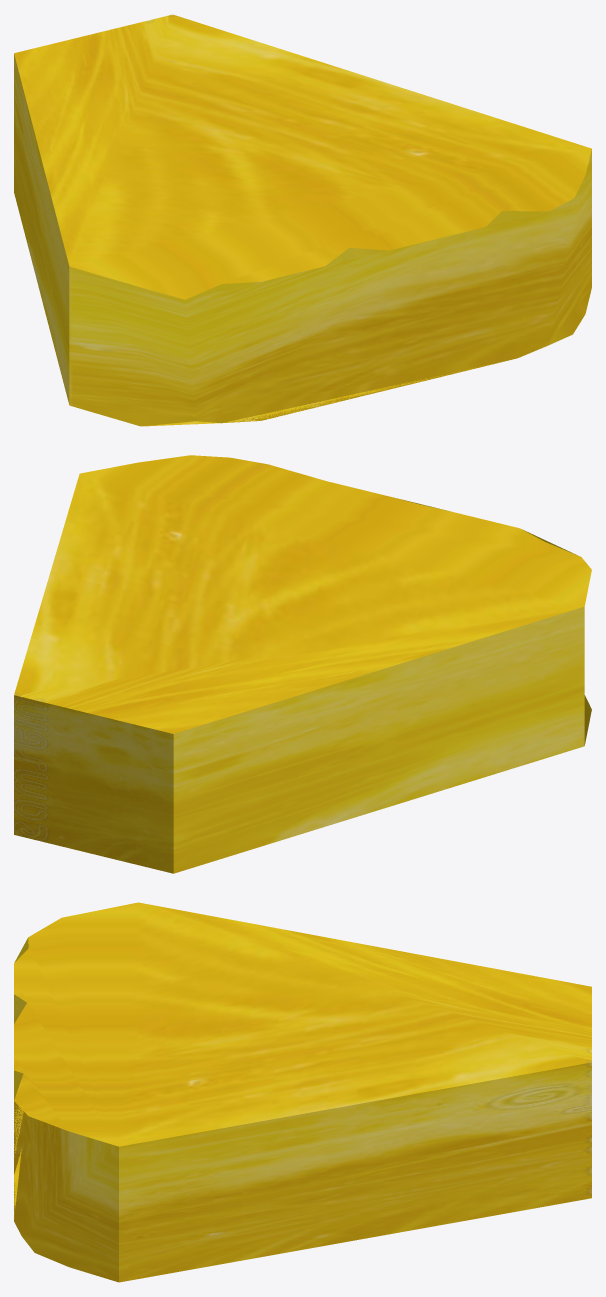
The model's file is pinapple_1.glb.
3 views of the same model, one above another, from view 1: azimuth 30°, elevation 25°; view 2: azimuth 150°, elevation 25°; view 3: azimuth 270°, elevation 25° (orthographic). The views are drawn at different scales.
Parts seen in each view (by area): view 1: Cube; view 2: Cube; view 3: Cube.
Part boxes in pixels (left/top/right/bottom): Cube: left=14, top=14, right=591, bottom=426; Cube: left=14, top=455, right=591, bottom=873; Cube: left=14, top=902, right=591, bottom=1282.
Bounding box in the file's own units: 0.0869 × 0.0237 × 0.0869.
1 material, 1 textured.
